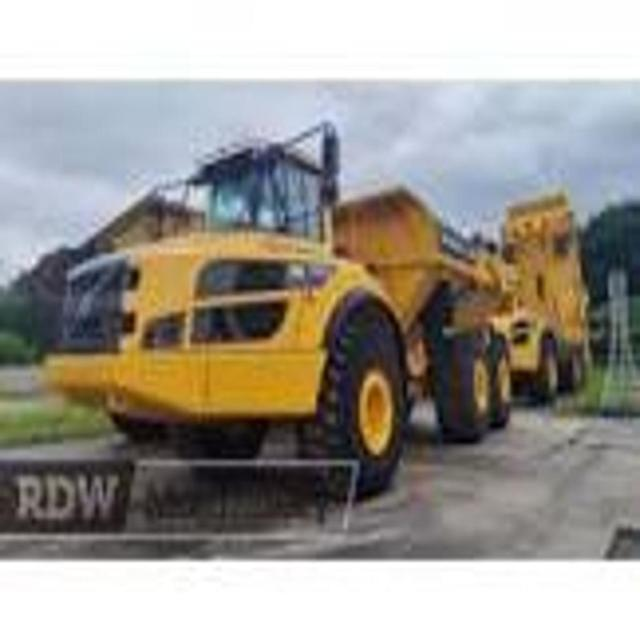dump_truck: (40, 119, 596, 498)
